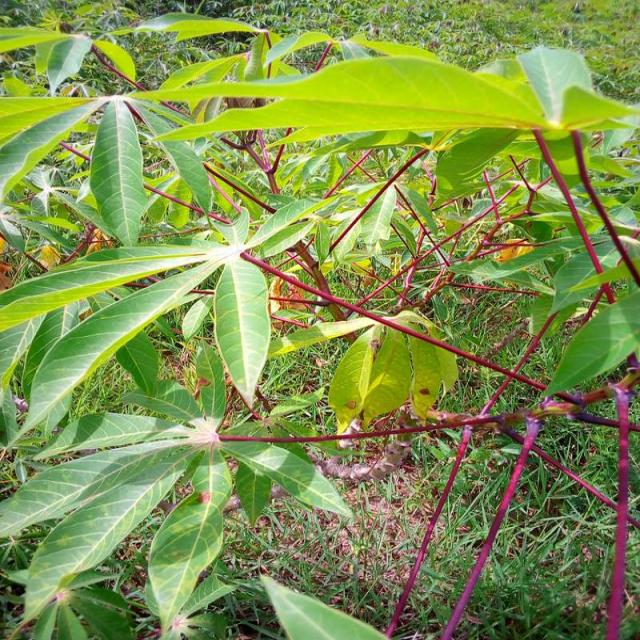cassava leaf: (0, 13, 638, 637), (328, 308, 458, 443), (212, 250, 271, 410), (88, 96, 147, 246)
